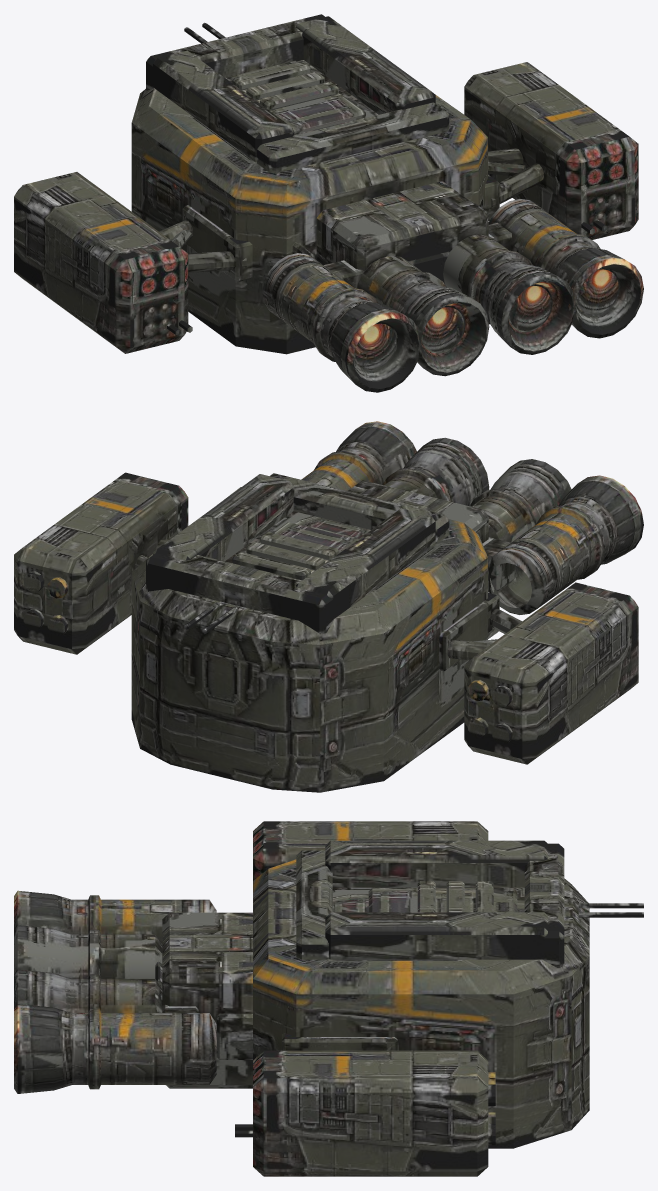
The model's file is ironclad-c.glb.
The picture shows the model from 3 angles, top to bottom: view 1: azimuth 30°, elevation 25°; view 2: azimuth 150°, elevation 25°; view 3: azimuth 270°, elevation 25°; orthographic projection. The views are drawn at different scales.
Parts seen in each view (by area): view 1: hero_ironclad_hull_c, hero_ironclad_wings_c, hero_ironclad_engines_c, hero_ironclad_cockpit_c; view 2: hero_ironclad_hull_c, hero_ironclad_wings_c, hero_ironclad_engines_c, hero_ironclad_cockpit_c; view 3: hero_ironclad_hull_c, hero_ironclad_wings_c, hero_ironclad_engines_c, hero_ironclad_cockpit_c.
Part boxes in pixels (x1=…): hero_ironclad_hull_c: x1=131, y1=14, x2=488, y2=354; hero_ironclad_wings_c: x1=14, y1=62, x2=638, y2=353; hero_ironclad_engines_c: x1=262, y1=199, x2=643, y2=392; hero_ironclad_cockpit_c: x1=225, y1=60, x2=365, y2=134; hero_ironclad_hull_c: x1=131, y1=473, x2=488, y2=792; hero_ironclad_wings_c: x1=14, y1=472, x2=638, y2=764; hero_ironclad_engines_c: x1=301, y1=421, x2=643, y2=614; hero_ironclad_cockpit_c: x1=232, y1=522, x2=357, y2=580; hero_ironclad_hull_c: x1=162, y1=840, x2=643, y2=1148; hero_ironclad_wings_c: x1=235, y1=821, x2=495, y2=1176; hero_ironclad_engines_c: x1=14, y1=890, x2=216, y2=1093; hero_ironclad_cockpit_c: x1=368, y1=881, x2=517, y2=912.
Bounding box in the file's own units: 1.74 × 0.61 × 1.74.
Materials: 1 (1 with a texture image).
